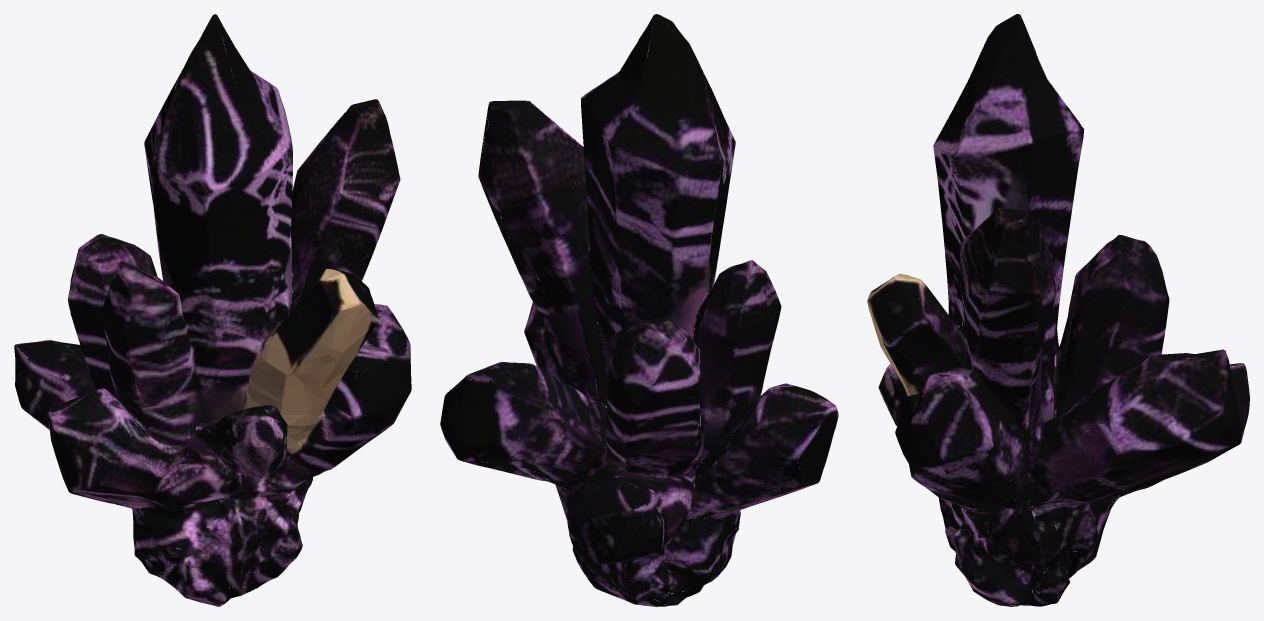
Rendered from magic-crystals-raw_preview.glb.
The picture shows the model from 3 angles, left to right: view 1: azimuth 30°, elevation 25°; view 2: azimuth 150°, elevation 25°; view 3: azimuth 270°, elevation 25°; orthographic projection.
Visible parts, largest first — view 1: tmpnptxcanj.ply; view 2: tmpnptxcanj.ply; view 3: tmpnptxcanj.ply.
Part boxes in pixels (bbox=[...]): tmpnptxcanj.ply: bbox=[14, 14, 411, 606]; tmpnptxcanj.ply: bbox=[440, 14, 838, 606]; tmpnptxcanj.ply: bbox=[867, 14, 1249, 606].
Bounding box in the file's own units: 1.22 × 1.98 × 1.18.
1 material, 1 textured.
